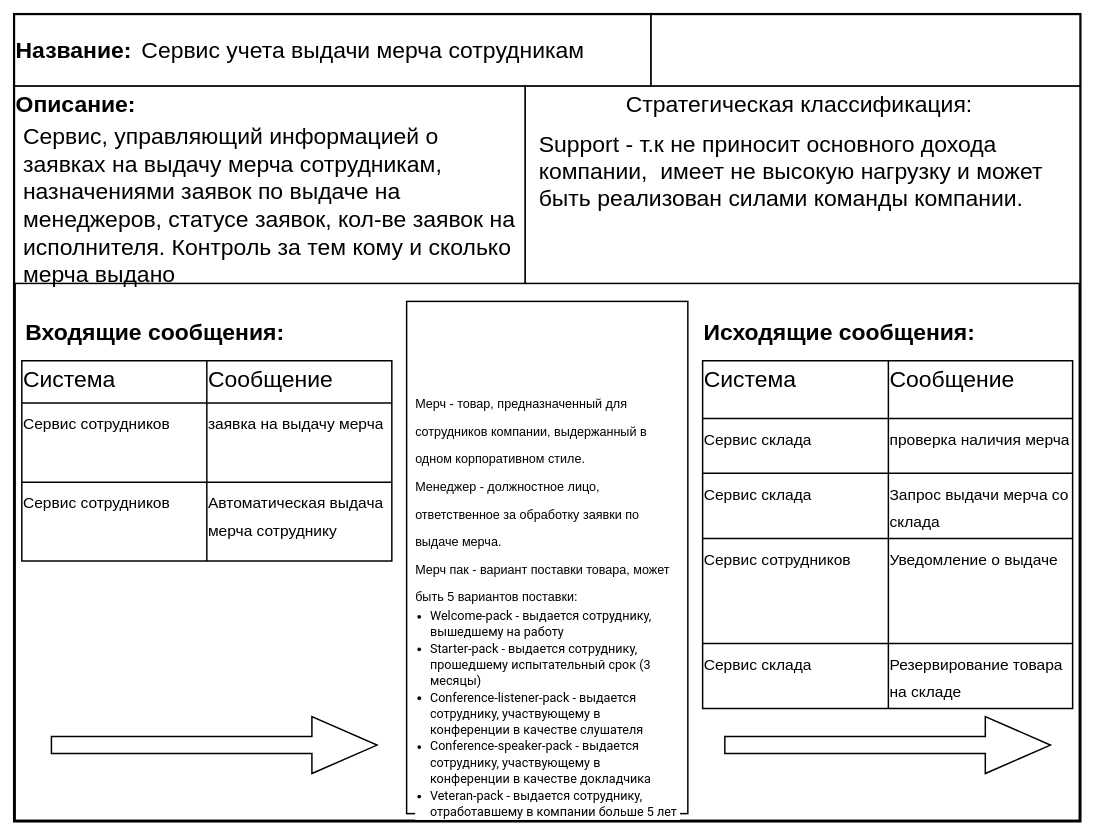
Some shapes in this 1094 by 840 pixel diagram are drawn without their labels. Here are the shapes that lost their labels. From the top down, the box of each, then its label:
(650, 13, 1080, 87): Bouneded context canvas
(406, 300, 688, 814): Ubiquitous Language специфическая доменная терминология
